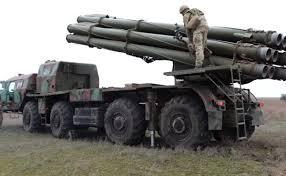MIL_SAM_TEL: (16, 7, 286, 148)
